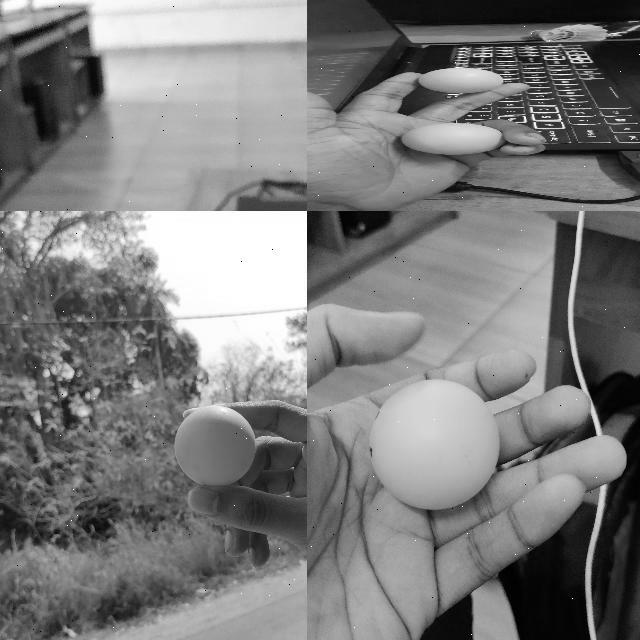ping-pong-ball: (367, 379, 497, 509), (172, 404, 254, 486), (401, 122, 504, 154), (416, 68, 504, 92)
